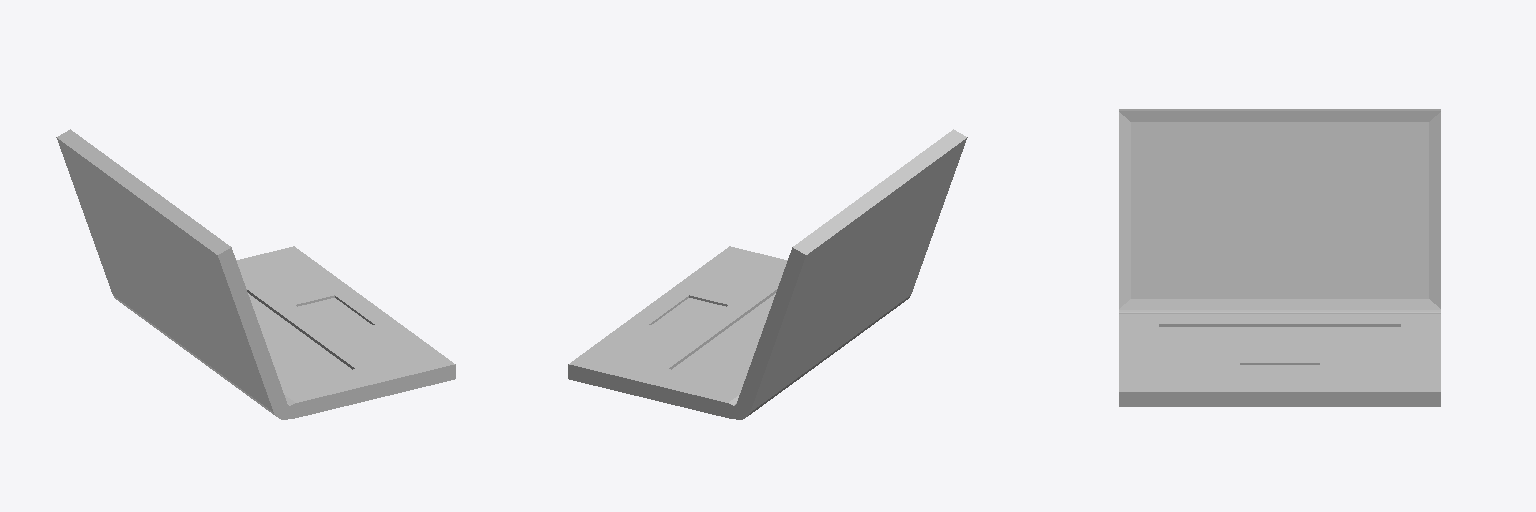
The model's file is ailaptopflat.obj.
3 views of the same model, side by side, from view 1: azimuth 30°, elevation 25°; view 2: azimuth 150°, elevation 25°; view 3: azimuth 270°, elevation 25° (orthographic).
Parts seen in each view (by area): view 1: console_console_auv; view 2: console_console_auv; view 3: console_console_auv.
Part boxes in pixels (x1,y1,x2,y2): console_console_auv: (56, 129, 455, 419); console_console_auv: (568, 129, 967, 419); console_console_auv: (1119, 109, 1440, 406).
Size of the model in its own units: 2.7 by 2.03 by 3.17.